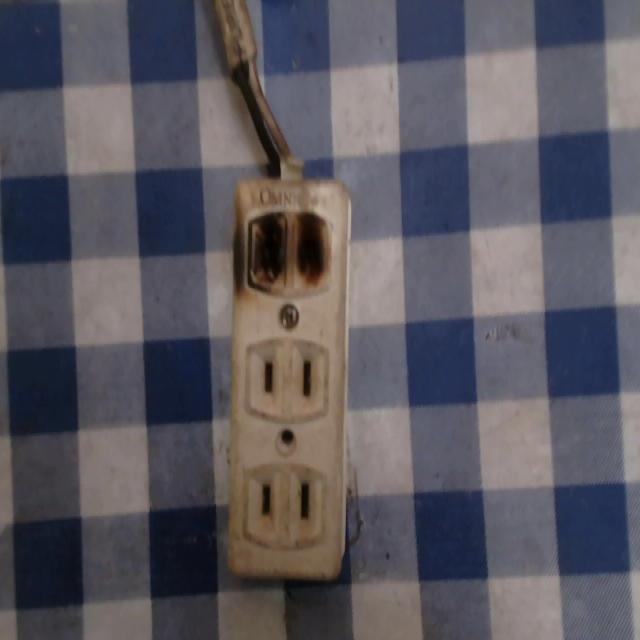-: (232, 208, 346, 300)
